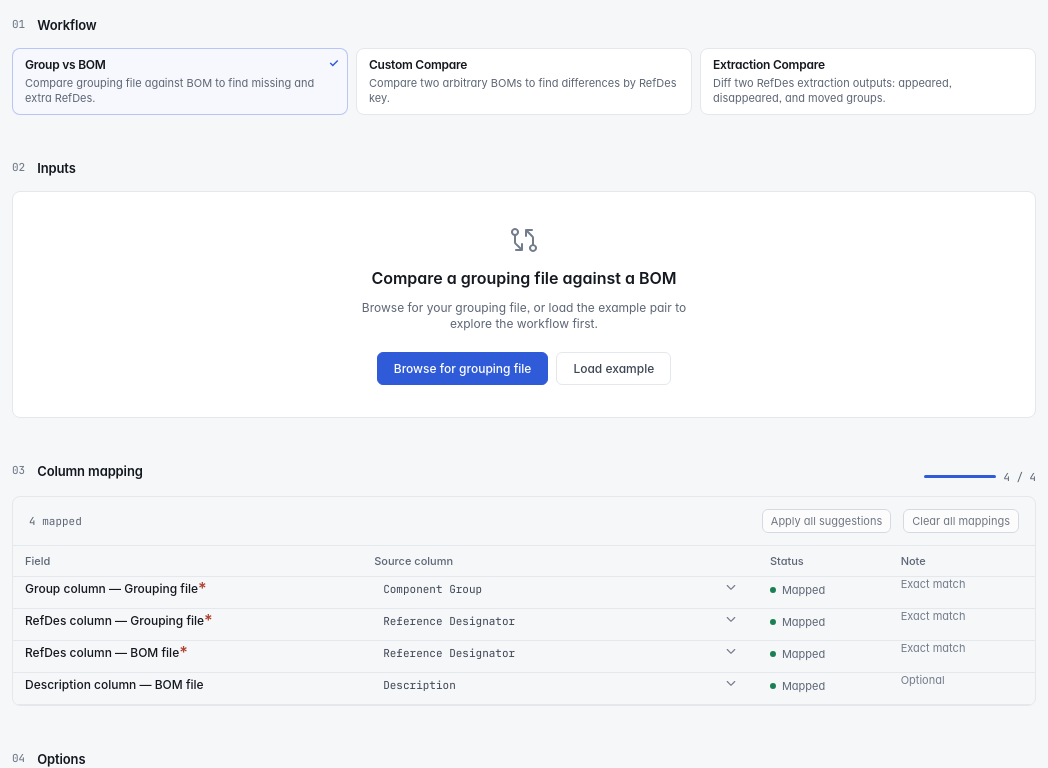
it: BomCompareTool custom compare workflow › rebuilds the grouping mapping dropdowns from the inspected workbook headers
This screenshot has width=1048, height=768.
Click the button "Browse for grouping file" at [463, 369], box [377,352,548,385]
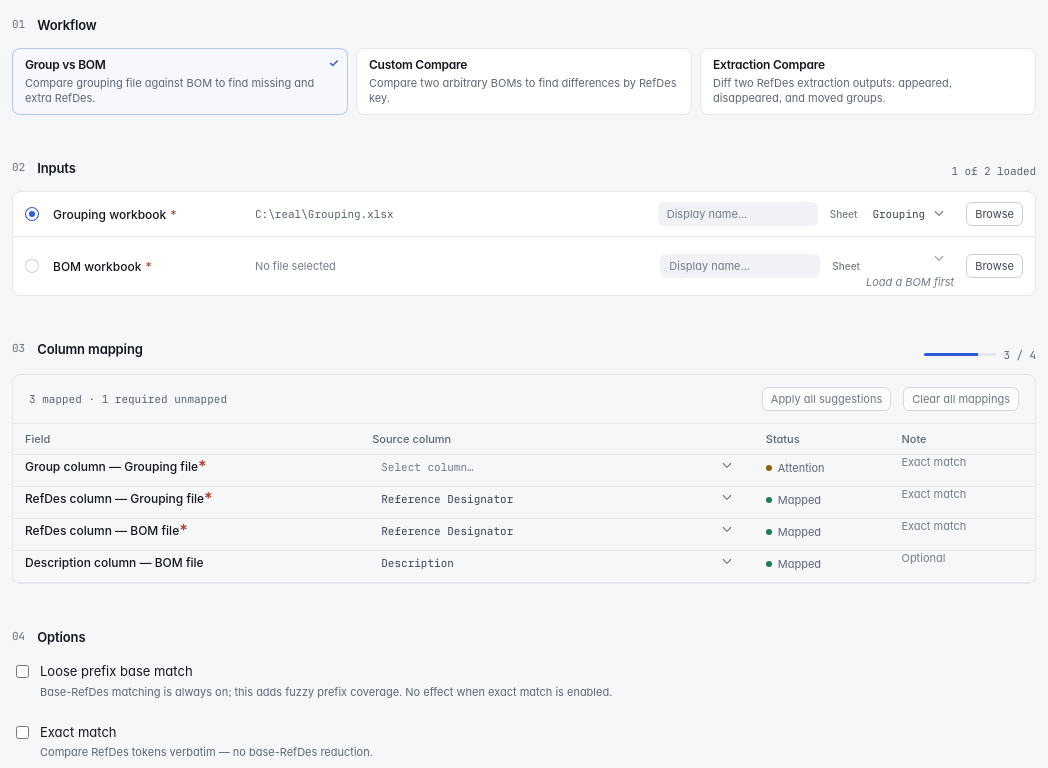
Result: the text "C:\\real\\Grouping.xlsx" is shown at [255,207,394,221]
Click the dropdown named "grouping_group_col mapping" at [427, 467], box [372,455,742,479]
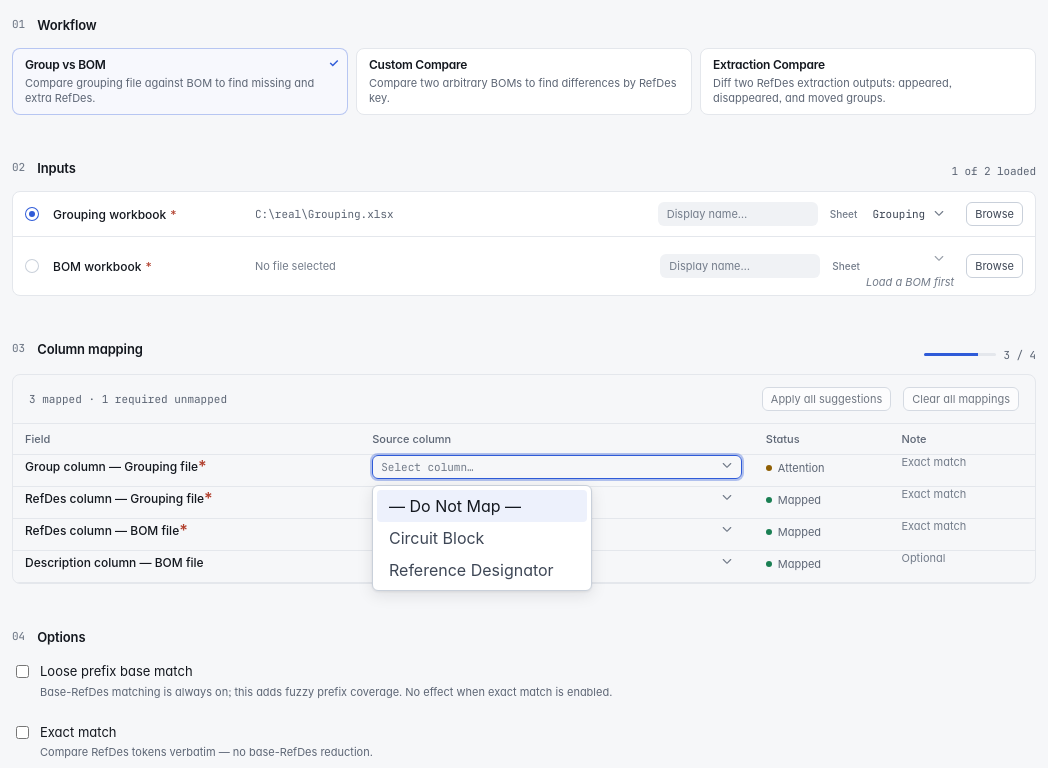
Expected: the dropdown labelled "Component Group" is not shown
Result: the option "Circuit Block" is shown at [389,528,484,548]
Result: the option "Reference Designator" is shown at [389,560,554,580]
